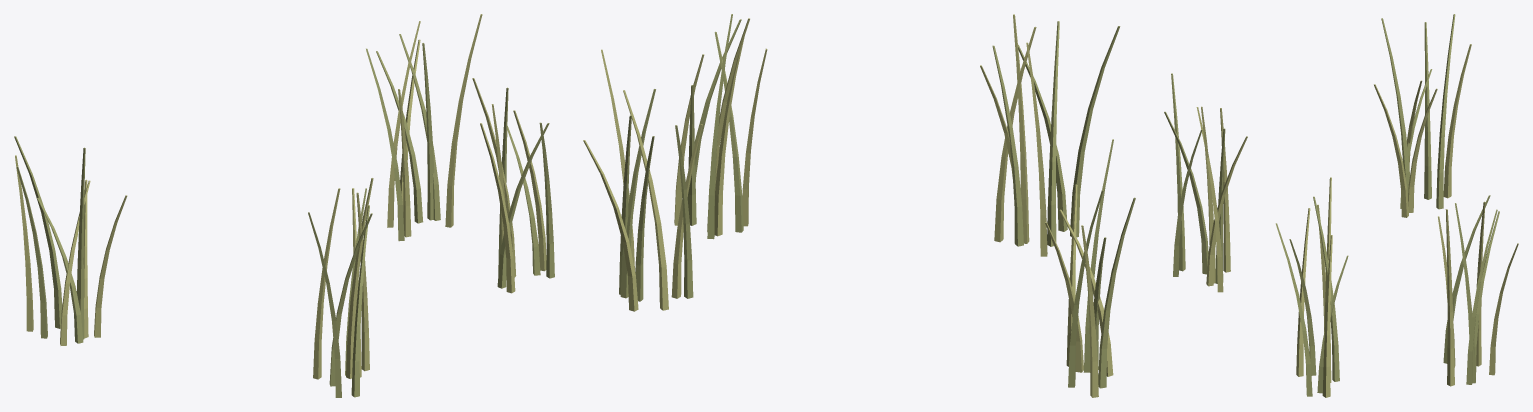
Rendered from 50-Vegetacion_hierba_alta.glb.
3 renders of one model, left to right at view 1: azimuth 30°, elevation 25°; view 2: azimuth 150°, elevation 25°; view 3: azimuth 270°, elevation 25°, orthographic. The views are drawn at different scales.
Visible parts, largest first — view 1: SM_HierbaBrizna_12, SM_HierbaBrizna_1, SM_HierbaBrizna_20, SM_HierbaBrizna_19, SM_HierbaBrizna_18, SM_HierbaBrizna_30, SM_HierbaBrizna_13, SM_HierbaBrizna_25, SM_HierbaBrizna_7, SM_HierbaBrizna_15, SM_HierbaBrizna_3, SM_HierbaBrizna_28 (+17 smaller); view 2: SM_HierbaBrizna_21, SM_HierbaBrizna_10, SM_HierbaBrizna_23, SM_HierbaBrizna_18, SM_HierbaBrizna_17, SM_HierbaBrizna_26, SM_HierbaBrizna_3, SM_HierbaBrizna_24, SM_HierbaBrizna_14, SM_HierbaBrizna_11, SM_HierbaBrizna_29, SM_HierbaBrizna_20 (+19 smaller); view 3: SM_HierbaBrizna_1, SM_HierbaBrizna_12, SM_HierbaBrizna_3, SM_HierbaBrizna_28, SM_HierbaBrizna_17, SM_HierbaBrizna_4, SM_HierbaBrizna_21, SM_HierbaBrizna_29, SM_HierbaBrizna_7, SM_HierbaBrizna_20, SM_HierbaBrizna_30, SM_HierbaBrizna_9 (+17 smaller).
Part boxes in pixels (x1,y1,x2,y2): SM_HierbaBrizna_12: (445,14,482,227); SM_HierbaBrizna_1: (14,136,62,328); SM_HierbaBrizna_20: (313,188,340,379); SM_HierbaBrizna_19: (351,205,369,397); SM_HierbaBrizna_18: (346,178,373,378); SM_HierbaBrizna_30: (480,123,515,293); SM_HierbaBrizna_13: (422,43,434,220); SM_HierbaBrizna_25: (539,122,554,278); SM_HierbaBrizna_7: (76,147,85,339); SM_HierbaBrizna_15: (376,51,423,223); SM_HierbaBrizna_3: (16,166,47,338); SM_HierbaBrizna_28: (513,110,546,271); SM_HierbaBrizna_21: (1047,21,1059,246); SM_HierbaBrizna_10: (623,90,668,310); SM_HierbaBrizna_23: (992,45,1023,246); SM_HierbaBrizna_18: (1013,14,1029,243); SM_HierbaBrizna_17: (1070,26,1120,237); SM_HierbaBrizna_26: (714,38,744,236); SM_HierbaBrizna_3: (1098,197,1135,388); SM_HierbaBrizna_24: (994,26,1036,242); SM_HierbaBrizna_14: (583,140,638,311); SM_HierbaBrizna_11: (675,125,693,298); SM_HierbaBrizna_29: (707,14,732,239); SM_HierbaBrizna_20: (1026,42,1047,256); SM_HierbaBrizna_1: (1436,14,1455,209); SM_HierbaBrizna_12: (1445,209,1454,386); SM_HierbaBrizna_3: (1424,22,1431,199); SM_HierbaBrizna_28: (1322,235,1332,397); SM_HierbaBrizna_17: (1171,73,1185,271); SM_HierbaBrizna_4: (1443,44,1471,198); SM_HierbaBrizna_21: (1164,111,1208,274); SM_HierbaBrizna_29: (1313,196,1339,381); SM_HierbaBrizna_7: (1381,18,1409,196); SM_HierbaBrizna_20: (1220,108,1230,272); SM_HierbaBrizna_30: (1296,208,1310,376); SM_HierbaBrizna_9: (1466,209,1497,384).
Bounding box in the file's own units: 1.01 × 0.4164 × 0.71.
